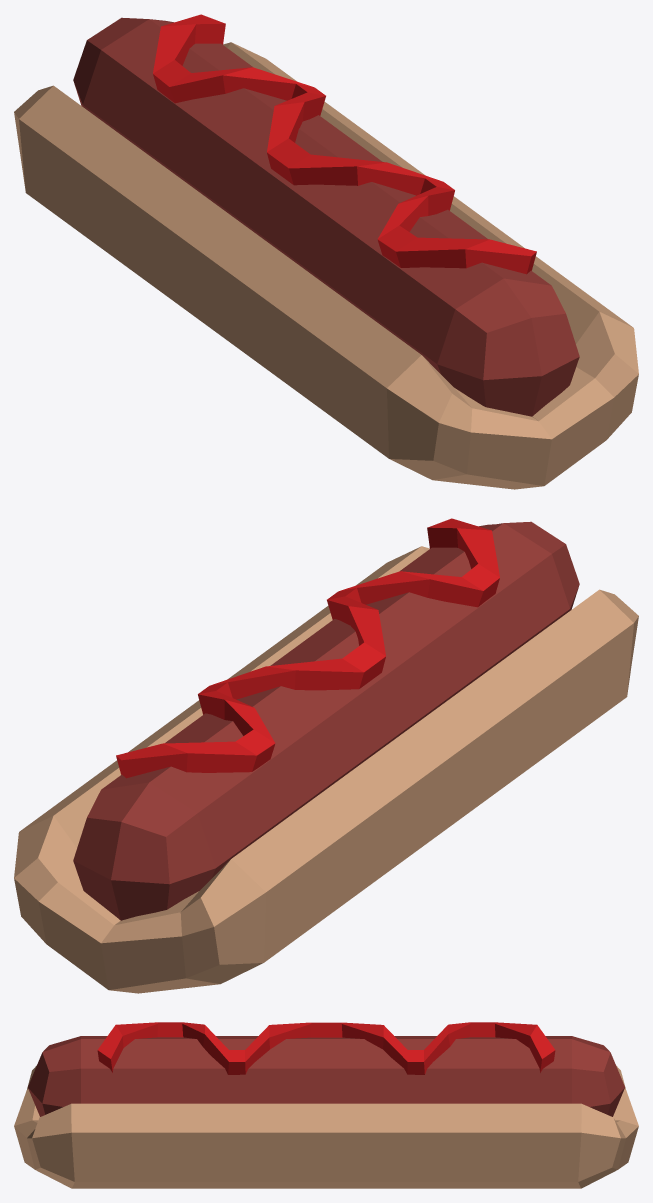
File: hot_dog.fbx
The picture shows the model from 3 angles, top to bottom: view 1: azimuth 30°, elevation 25°; view 2: azimuth 150°, elevation 25°; view 3: azimuth 270°, elevation 25°; orthographic projection. The views are drawn at different scales.
Visible parts, largest first — view 1: HotDog_Bun, HotDog, HotDog_Sauce; view 2: HotDog_Bun, HotDog, HotDog_Sauce; view 3: HotDog_Bun, HotDog, HotDog_Sauce.
Boxes of the visible parts, x1,y1,x2,y2 form: HotDog_Bun: [14, 42, 638, 489]; HotDog: [73, 17, 579, 416]; HotDog_Sauce: [153, 14, 536, 274]; HotDog_Bun: [14, 546, 638, 993]; HotDog: [73, 521, 579, 920]; HotDog_Sauce: [116, 518, 499, 778]; HotDog_Bun: [14, 1065, 638, 1188]; HotDog: [28, 1036, 624, 1116]; HotDog_Sauce: [97, 1022, 555, 1074].
Bounding box in the file's own units: 5.68 × 4.8 × 17.96.
